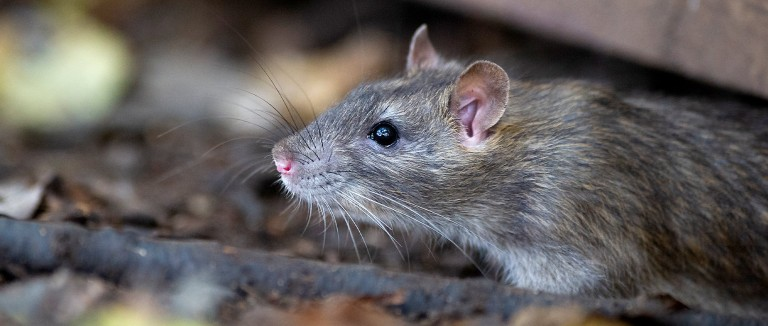Rat: (255, 16, 768, 309)
